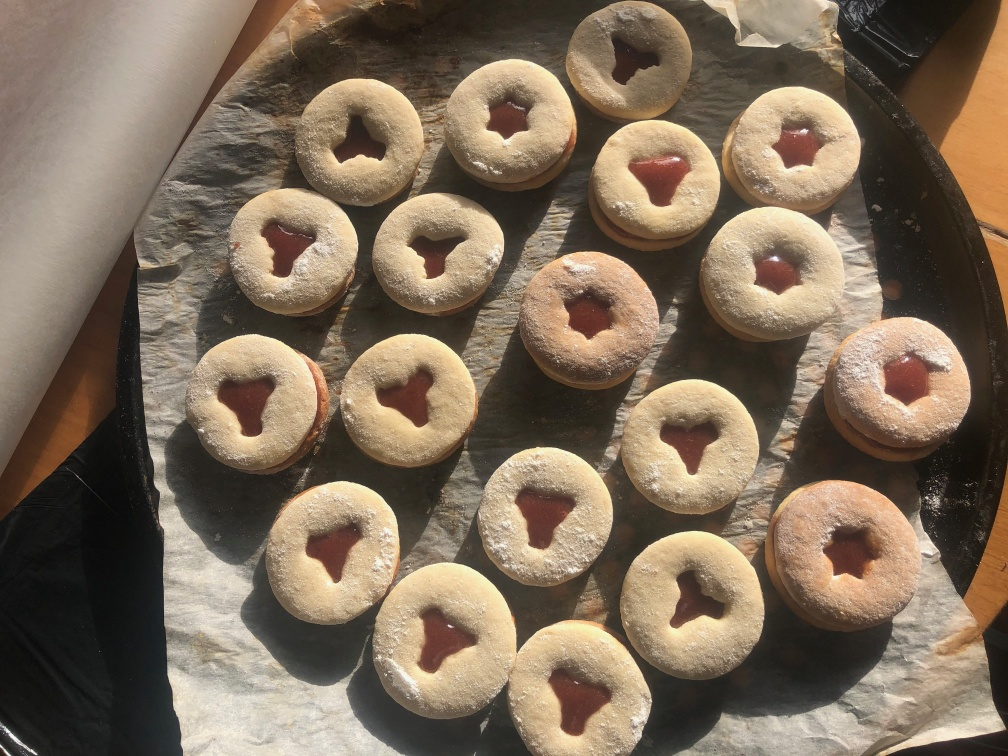christmas shortbread with jam: (772, 474, 919, 638), (260, 481, 400, 631), (186, 334, 329, 477), (620, 531, 763, 674), (376, 563, 511, 714), (619, 378, 763, 518), (515, 250, 661, 388), (475, 443, 614, 586), (342, 332, 480, 476), (837, 312, 972, 459), (708, 209, 845, 344), (224, 186, 363, 319), (445, 51, 575, 190), (727, 81, 864, 208), (511, 623, 647, 750), (375, 189, 505, 319), (293, 75, 425, 201), (594, 121, 722, 250), (567, 5, 691, 119)
